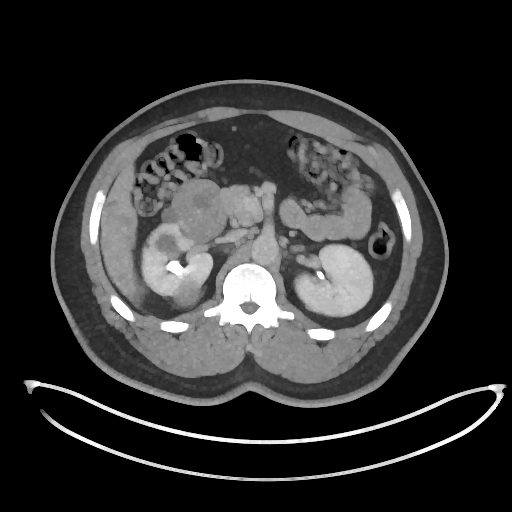Lesion: (173, 175, 229, 244)
